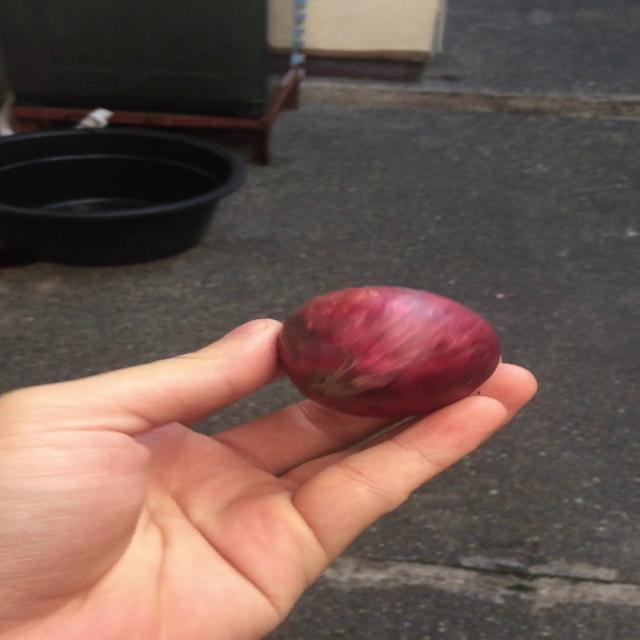Onion: (277, 286, 500, 418)
